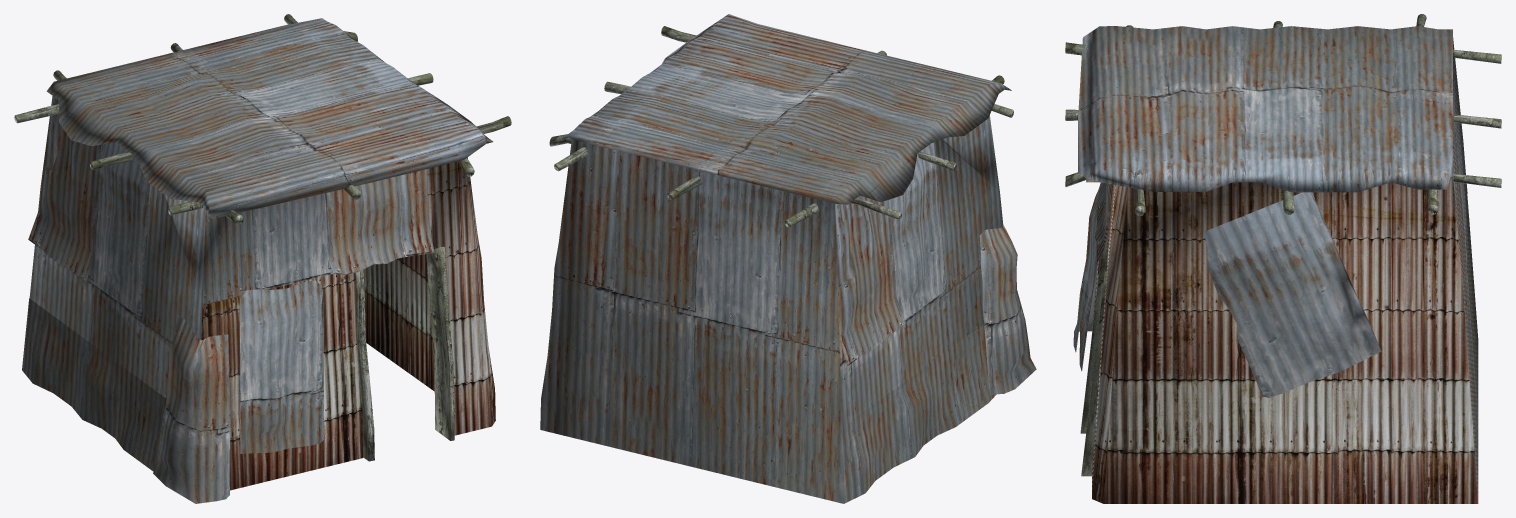
Rendered from shanty11.fbx.
3 renders of one model, left to right at view 1: azimuth 30°, elevation 25°; view 2: azimuth 150°, elevation 25°; view 3: azimuth 270°, elevation 25°, orthographic. The views are drawn at different scales.
Visible parts, largest first — view 1: U3DMesh; view 2: U3DMesh; view 3: U3DMesh.
Part boxes in pixels (<box>): U3DMesh: <box>14,14,511,503</box>; U3DMesh: <box>540,14,1036,503</box>; U3DMesh: <box>1065,14,1501,503</box>.
Size of the model in its own units: 156 by 125 by 147.
